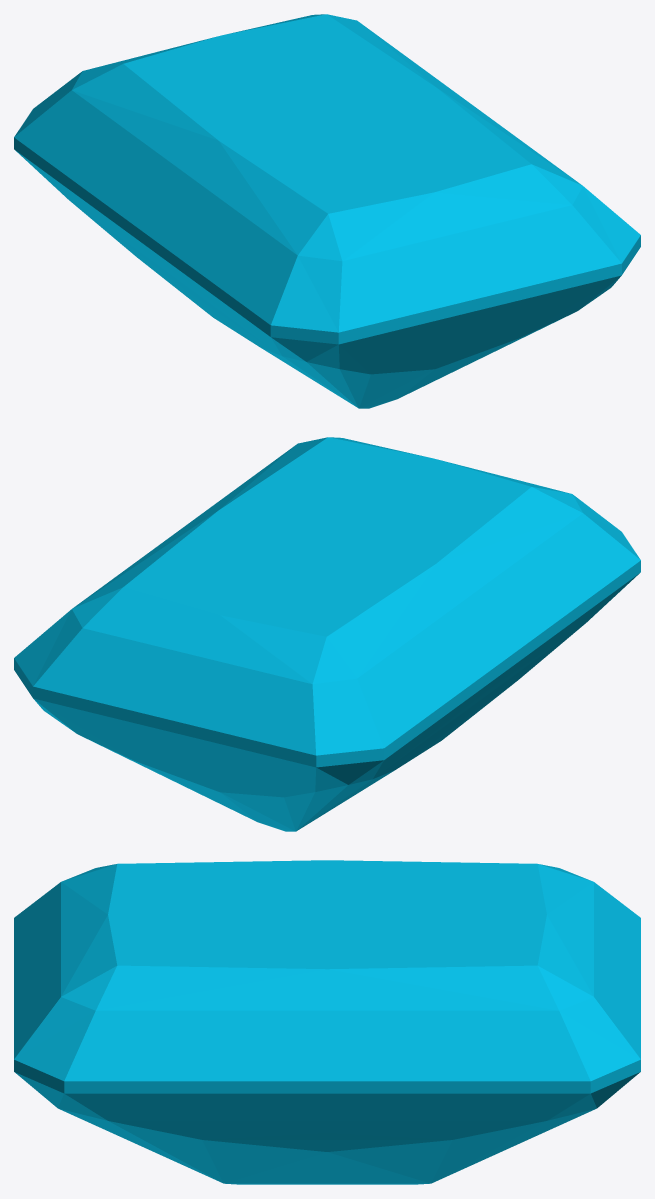
The model's file is Head_No Halo_Radiant_3.0ct_Diamond.glb.
3 renders of one model, top to bottom at view 1: azimuth 30°, elevation 25°; view 2: azimuth 150°, elevation 25°; view 3: azimuth 270°, elevation 25°, orthographic. The views are drawn at different scales.
Size of the model in its own units: 0.0073 by 0.00497 by 0.0104.
